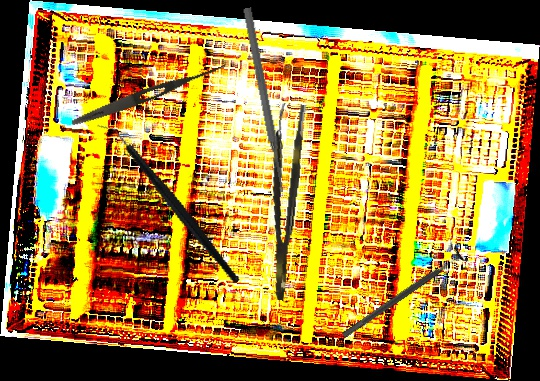Chopper: (95, 97, 241, 309)
Dressing Forceps: (69, 58, 229, 130)
Fixation Ring: (336, 242, 470, 345)
Pusher: (240, 7, 289, 193)
Tissue Forceps: (257, 102, 308, 301)
